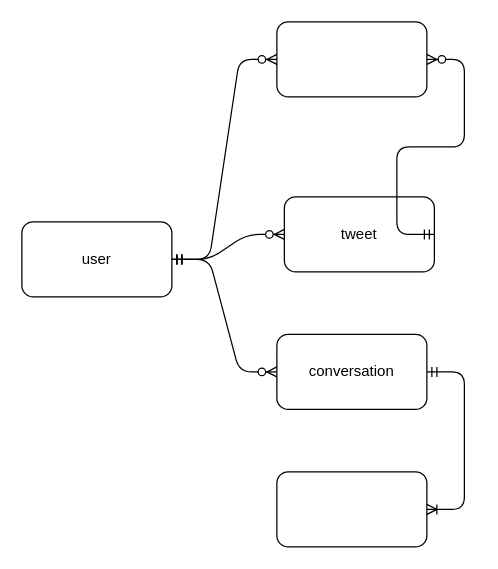
Some shapes in this 498 by 569 pixel diagram are drawn without their labels. Here are the shapes that lost their labels. From the top down, the box of each, then its label:
(276, 21, 427, 97): comment
(276, 471, 427, 547): message
